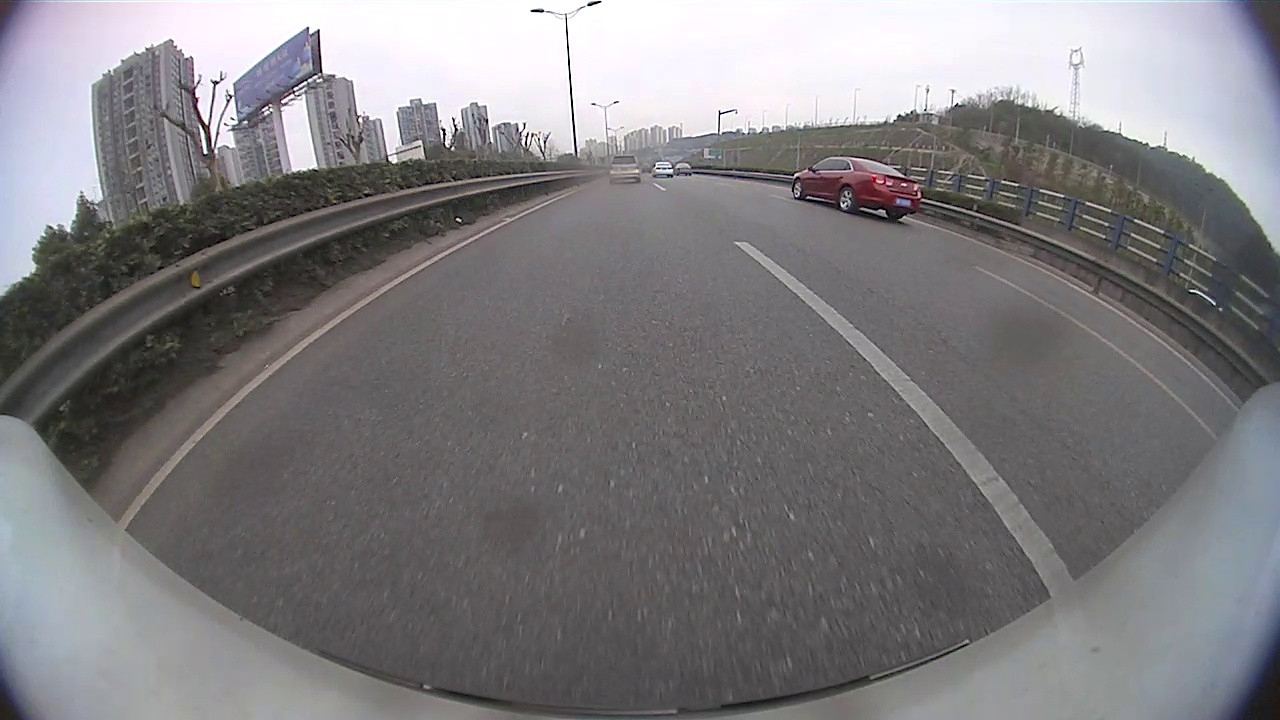car: (790, 154, 923, 222), (607, 153, 641, 184), (649, 160, 674, 178)
front: (791, 181, 805, 200)
rear: (839, 189, 858, 214)
